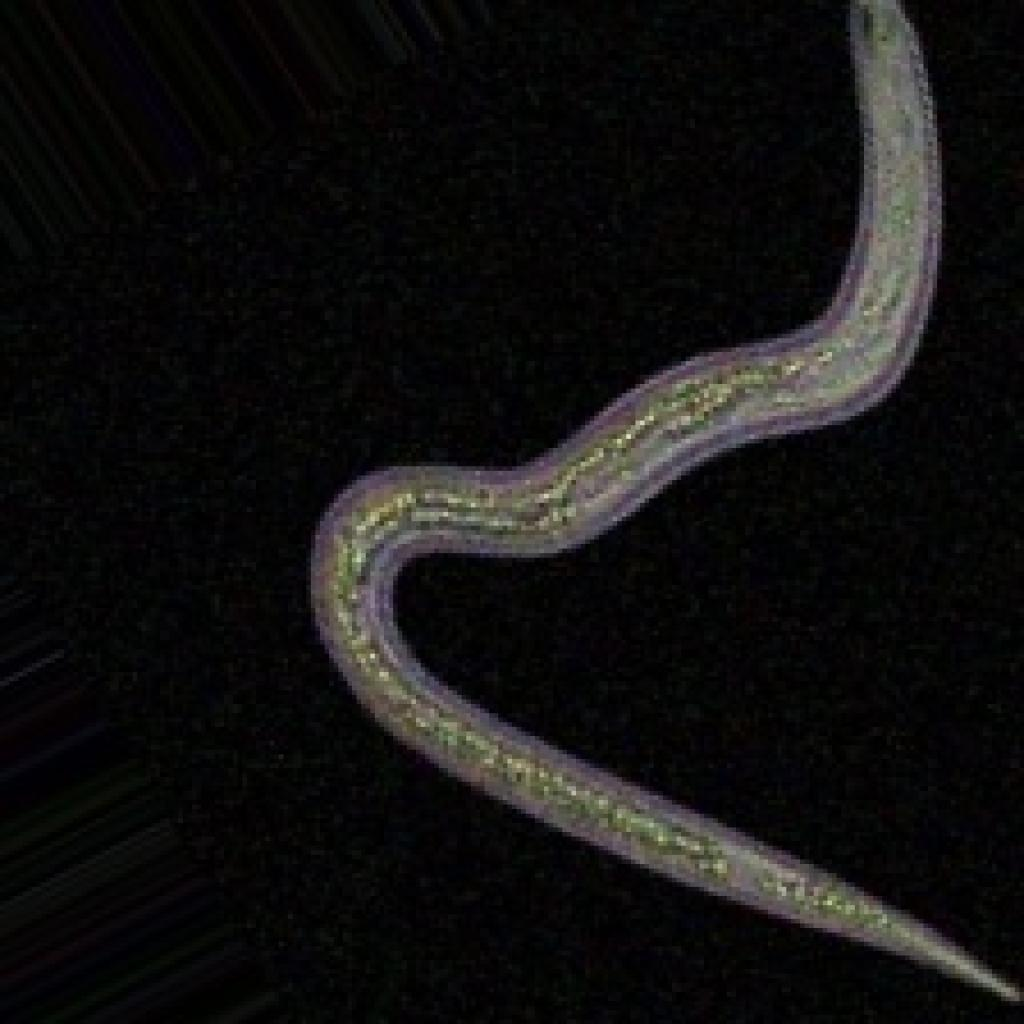Nematode: (301, 0, 1019, 1010)
